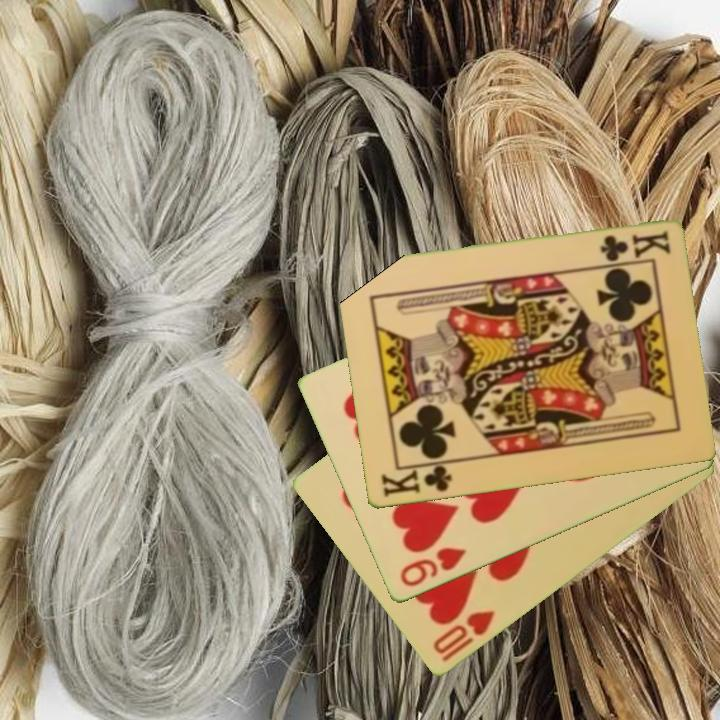10h: (429, 607, 498, 658)
9h: (396, 544, 469, 591)
Kc: (377, 459, 457, 501), (596, 227, 673, 264)
